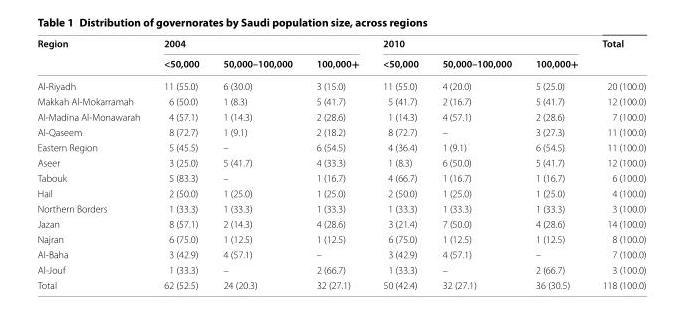table: (36, 36, 645, 290)
table column: (36, 36, 151, 290), (429, 36, 523, 290), (210, 36, 303, 290), (303, 36, 370, 290), (523, 36, 589, 290), (151, 36, 210, 290), (370, 36, 429, 290), (589, 36, 645, 290)
table column header: (36, 36, 645, 77)
table row: (36, 52, 645, 77), (36, 36, 645, 52), (36, 77, 645, 93), (36, 108, 645, 124), (36, 154, 645, 170), (36, 215, 645, 231), (36, 261, 645, 277), (36, 93, 645, 108), (36, 124, 645, 139), (36, 139, 645, 154), (36, 170, 645, 185), (36, 185, 645, 200), (36, 200, 645, 215), (36, 231, 645, 246), (36, 246, 645, 261), (36, 277, 645, 290)
table spanning cell: (36, 36, 151, 77), (151, 36, 370, 52), (370, 36, 589, 52), (589, 36, 645, 77)
